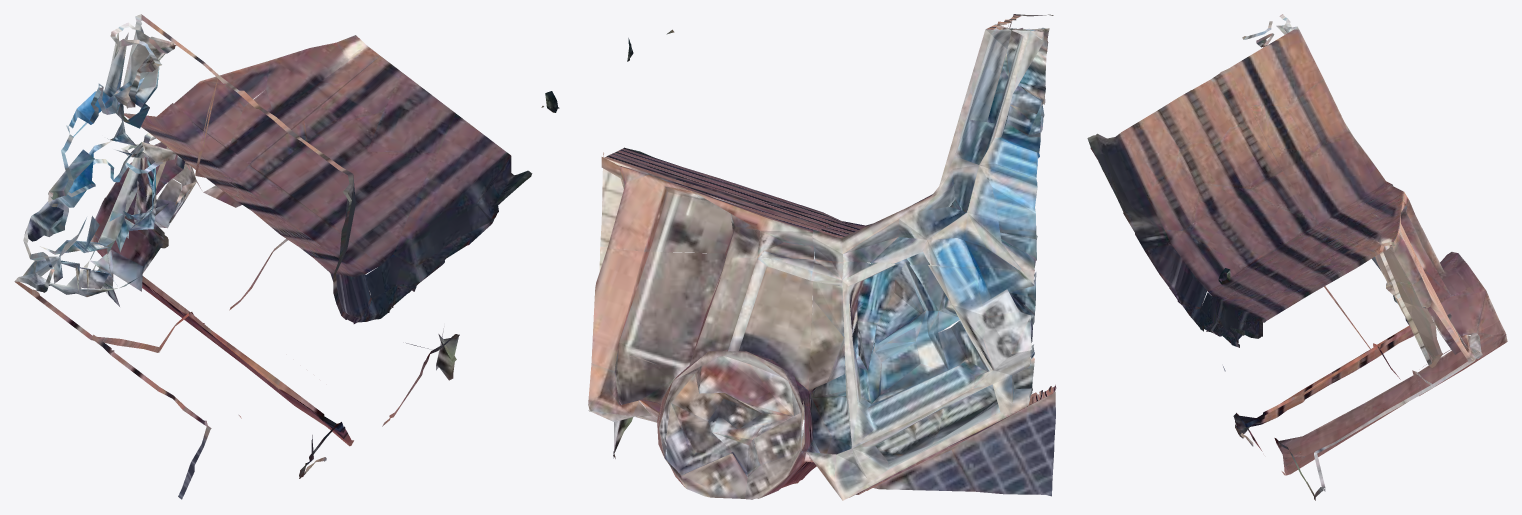
The model's file is AJVsH2wneBlsJTPiuUp3LKur4z7-xu-60hZYoEa7KS6qwJa3IAUJC_aXOKbg_HQ8t-j565E_eAK7XZkON0R7gLPiueEpmu7pmYmGvel7bndNfOSGMM6TvY99bSSoHgJjmyq06BaoayHNzcaVzbjkR-iBFY7X.glb.
The picture shows the model from 3 angles, left to right: view 1: azimuth 30°, elevation 25°; view 2: azimuth 150°, elevation 25°; view 3: azimuth 270°, elevation 25°; orthographic projection. The views are drawn at different scales.
Size of the model in its own units: 46.84 by 46.27 by 48.74.
Materials: 2 (2 with a texture image).
